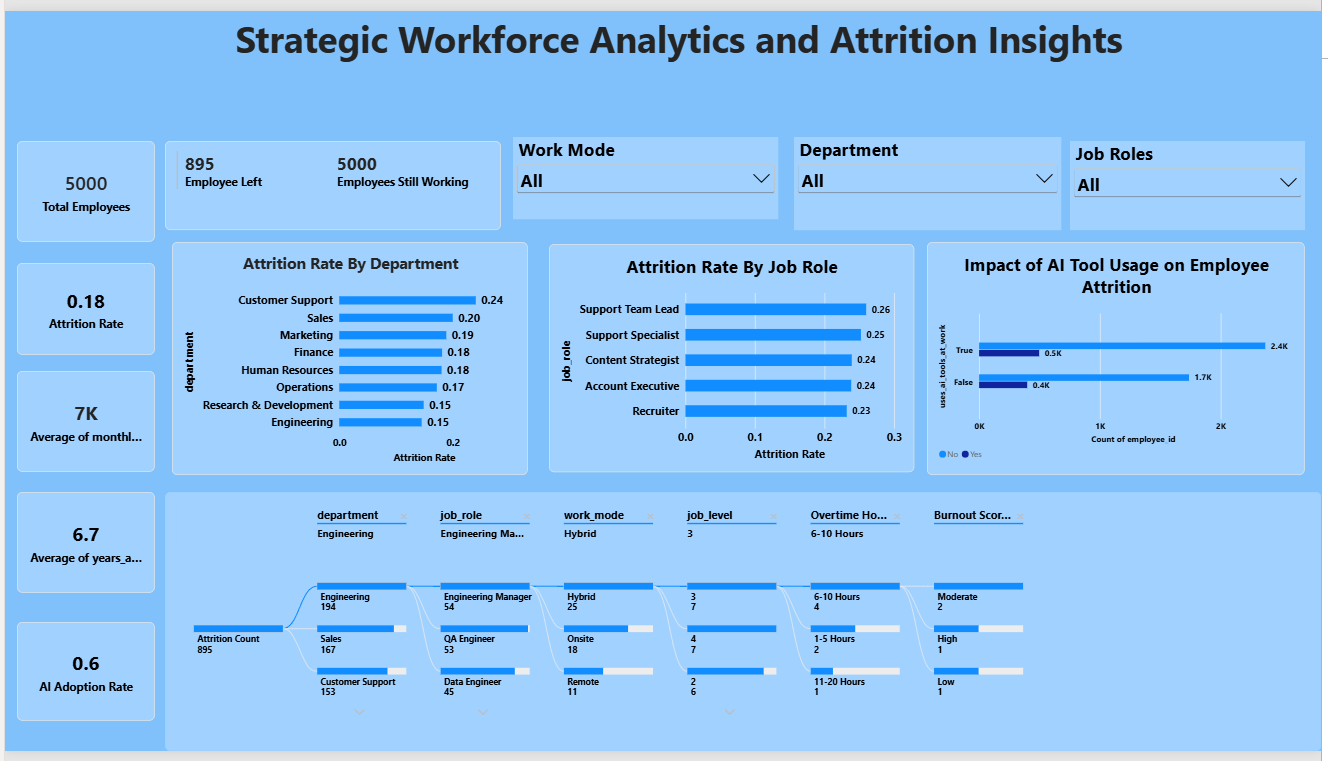

This screenshot's page, from the dashboard's own definition file:
{"tool":"powerbi","page":{"name":"Dashboard","canvas":[1920,1080],"ordinal":1},"visuals":[{"type":"card","fields":{"Values":["Employee Attrition Data.AI Adoption Rate"]},"box":[17.5,891.4,201.3,144.4],"z":0},{"type":"card","fields":{"Values":["Avg(Employee Attrition Data.years_at_company)"]},"box":[17.5,701.8,201.3,147.4],"z":1000},{"type":"card","fields":{"Values":["Employee Attrition Data.Attrition Rate"]},"box":[17.5,367.7,201.3,134.2],"z":2000},{"type":"card","fields":{"Values":["Avg(Employee Attrition Data.monthly_income)"]},"box":[17.5,525.2,201.3,147.4],"z":3000},{"type":"card","fields":{"Values":["Count(Employee Attrition Data.employee_id)"]},"box":[17.5,189.7,201.3,147.4],"z":4000},{"type":"multiRowCard","fields":{"Values":["Employee Attrition Data.Employee Left","Count(Employee Attrition Data.employee_id)"]},"box":[233.4,189.7,490.2,129.8],"z":5000},{"type":"clusteredBarChart","title":"Attrition Rate By Department","fields":{"Category":["Employee Attrition Data.department"],"Y":["Employee Attrition Data.Attrition Rate"]},"box":[243.6,337,519.4,339.9],"z":6000},{"type":"clusteredBarChart","title":"Attrition Rate By Job Role","fields":{"Category":["Employee Attrition Data.job_role"],"Y":["Employee Attrition Data.Attrition Rate"]},"box":[793.7,339.9,532.5,332.6],"z":7000},{"type":"clusteredBarChart","title":"Impact of AI Tool Usage on Employee Attrition","fields":{"Category":["Employee Attrition Data.uses_ai_tools_at_work"],"Series":["Employee Attrition Data.attrition"],"Y":["Count(Employee Attrition Data.employee_id)"]},"box":[1345.2,337,551.5,339.9],"z":8000},{"type":"decompositionTreeVisual","fields":{"Analyze":["Employee Attrition Data.Attrition Count"],"ExplainBy":["Employee Attrition Data.department","Employee Attrition Data.job_role","Employee Attrition Data.work_mode","Employee Attrition Data.job_level","Employee Attrition Data.Overtime Hours Band","Employee Attrition Data.Brunout Score Band"]},"box":[233.4,701.8,1686.6,377.9],"z":9000},{"type":"slicer","fields":{"Values":["Employee Attrition Data.work_mode"]},"box":[741.2,183.8,386.6,119.6],"z":10000},{"type":"slicer","fields":{"Values":["Employee Attrition Data.work_mode"]},"box":[1151.1,183.8,389.5,135.7],"z":11000},{"type":"slicer","fields":{"Values":["Employee Attrition Data.work_mode"]},"box":[1553.8,189.7,342.9,129.8],"z":12000},{"type":"textbox","box":[17.5,2.9,1902.5,148.8],"z":13000}]}

Visuals, with their boxes in screenshot pixels (x1, y1, x2, y2), scaled from the page's 1920x1080 canvas onto the 1328x761 screenshot:
card - Employee Attrition Data.AI Adoption Rate: {"x1": 12, "y1": 628, "x2": 151, "y2": 730}
card - Avg(Employee Attrition Data.years_at_company): {"x1": 12, "y1": 495, "x2": 151, "y2": 598}
card - Employee Attrition Data.Attrition Rate: {"x1": 12, "y1": 259, "x2": 151, "y2": 354}
card - Avg(Employee Attrition Data.monthly_income): {"x1": 12, "y1": 370, "x2": 151, "y2": 474}
card - Count(Employee Attrition Data.employee_id): {"x1": 12, "y1": 134, "x2": 151, "y2": 238}
multiRowCard - Employee Attrition Data.Employee Left x Count(Employee Attrition Data.employee_id): {"x1": 161, "y1": 134, "x2": 500, "y2": 225}
"Attrition Rate By Department" clusteredBarChart: {"x1": 168, "y1": 237, "x2": 528, "y2": 477}
"Attrition Rate By Job Role" clusteredBarChart: {"x1": 549, "y1": 240, "x2": 917, "y2": 474}
"Impact of AI Tool Usage on Employee Attrition" clusteredBarChart: {"x1": 930, "y1": 237, "x2": 1312, "y2": 477}
decompositionTreeVisual - Employee Attrition Data.Attrition Count x Employee Attrition Data.department: {"x1": 161, "y1": 495, "x2": 1327, "y2": 760}
slicer - Employee Attrition Data.work_mode: {"x1": 513, "y1": 130, "x2": 780, "y2": 214}
slicer - Employee Attrition Data.work_mode: {"x1": 796, "y1": 130, "x2": 1066, "y2": 225}
slicer - Employee Attrition Data.work_mode: {"x1": 1075, "y1": 134, "x2": 1312, "y2": 225}
textbox: {"x1": 12, "y1": 2, "x2": 1327, "y2": 107}
